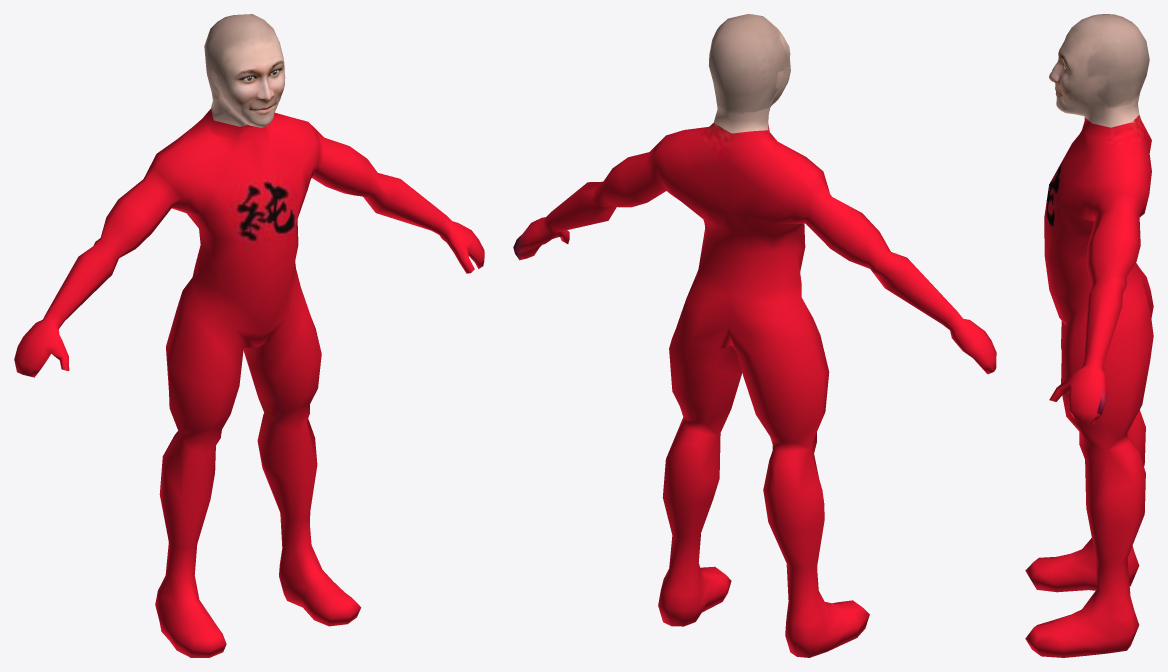
The model's file is Unkochan3.fbx.
3 renders of one model, left to right at view 1: azimuth 30°, elevation 25°; view 2: azimuth 150°, elevation 25°; view 3: azimuth 270°, elevation 25°, orthographic. The views are drawn at different scales.
Parts seen in each view (by area): view 1: male; view 2: male; view 3: male.
Boxes of the visible parts, x1,y1,x2,y2 form: male: [14, 14, 484, 657]; male: [513, 14, 996, 657]; male: [1025, 14, 1153, 657].
Bounding box in the file's own units: 1.48 × 1.81 × 0.3528.
Materials: 1 (1 with a texture image).
